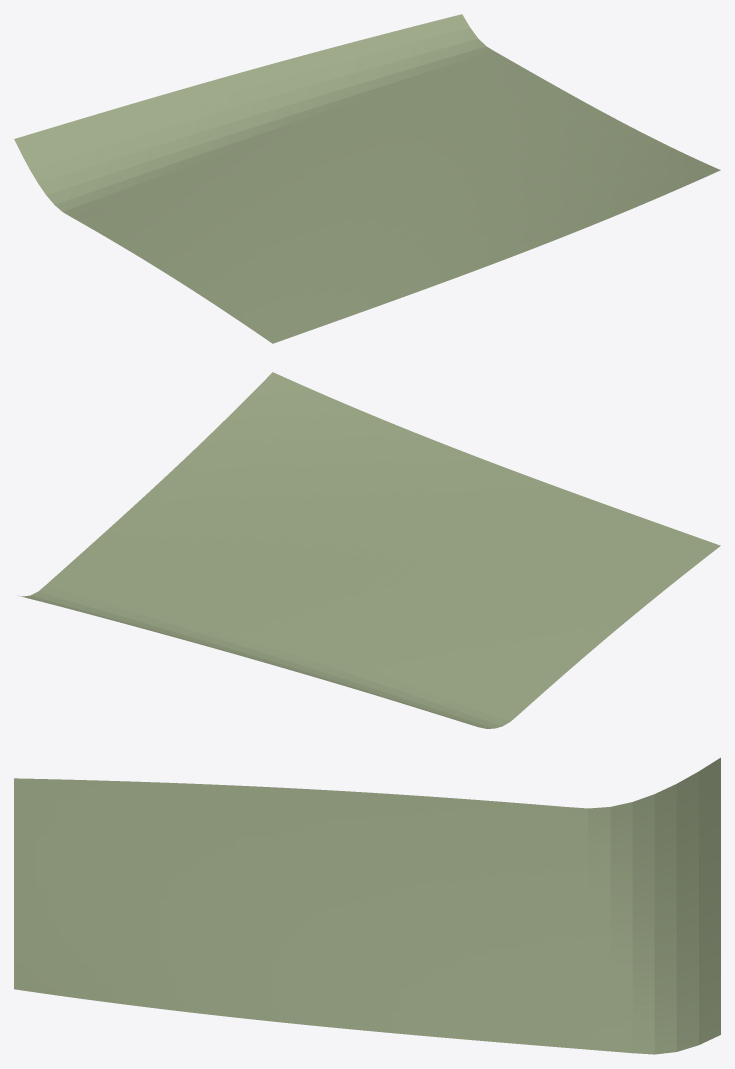
File: alpine-4-3.glb
3 views of the same model, one above another, from view 1: azimuth 30°, elevation 25°; view 2: azimuth 150°, elevation 25°; view 3: azimuth 270°, elevation 25° (orthographic). The views are drawn at different scales.
Parts seen in each view (by area): view 1: alpine-4-3; view 2: alpine-4-3; view 3: alpine-4-3.
Boxes of the visible parts, <box> form: alpine-4-3: <box>14,14,720,343</box>; alpine-4-3: <box>18,372,720,728</box>; alpine-4-3: <box>14,757,720,1054</box>.
Size of the model in its own units: 256 by 47.12 by 256.
